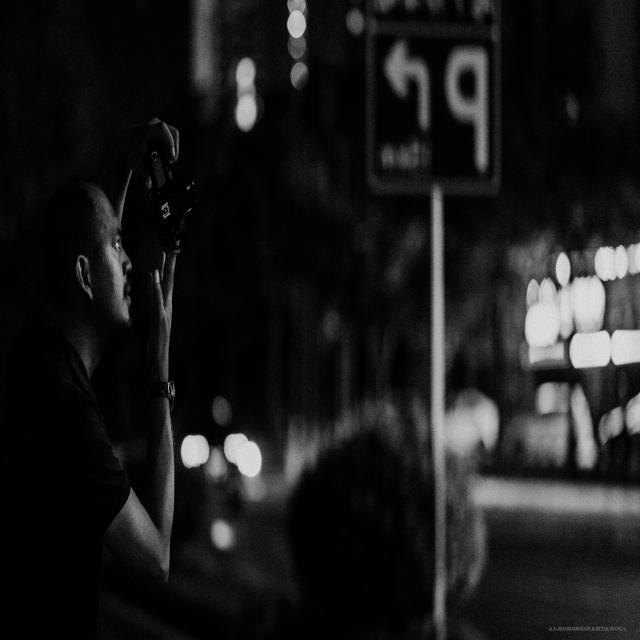adult: (8, 109, 190, 640)
